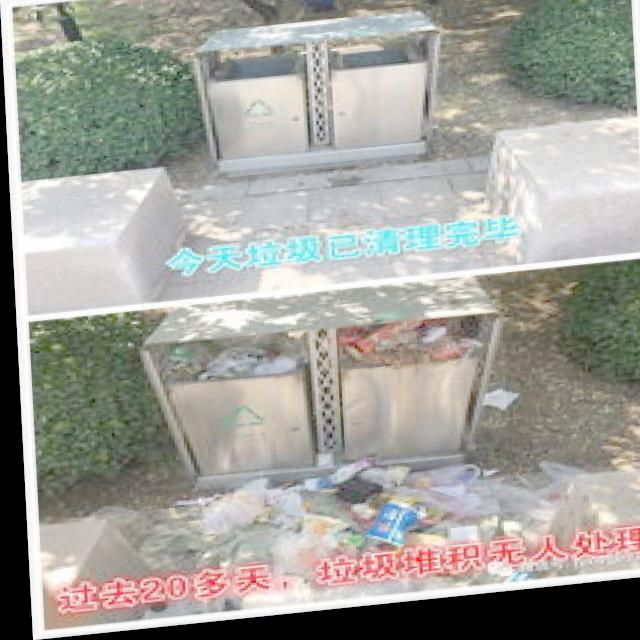garbage: (121, 447, 586, 630)
garbage_bin: (186, 14, 440, 181)
overflow: (137, 284, 504, 498)
